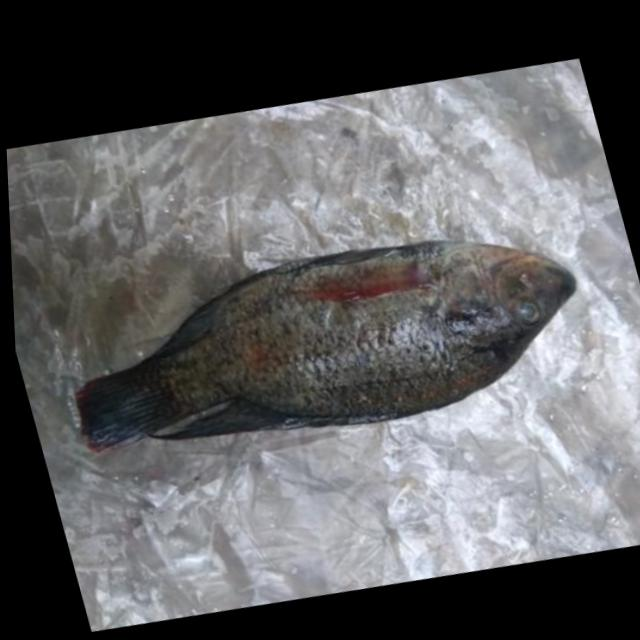Tilapia: (38, 179, 607, 506)
